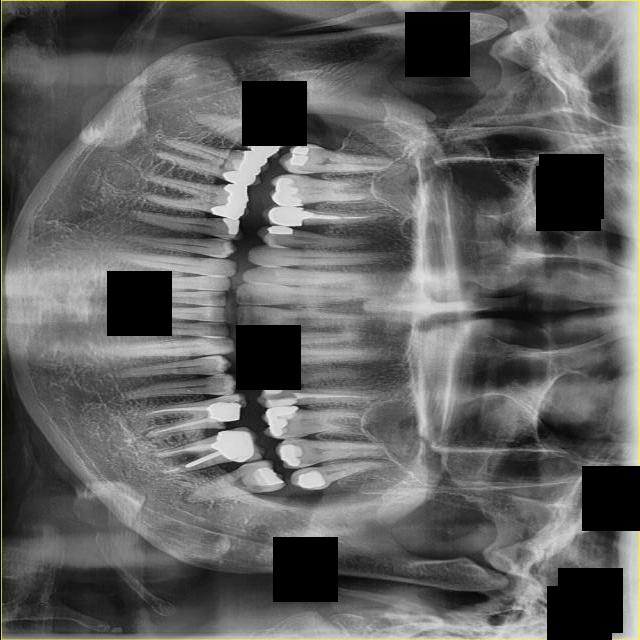71: (183, 450, 221, 470), (310, 213, 341, 221)
74: (153, 415, 218, 434), (291, 392, 372, 404), (158, 443, 214, 456), (146, 405, 208, 416), (162, 467, 179, 474), (340, 217, 371, 219)
NucleOSS Implant: (220, 142, 272, 195), (210, 179, 251, 220), (247, 130, 292, 164), (265, 404, 301, 437), (271, 177, 303, 206), (251, 465, 283, 488), (208, 402, 241, 423), (295, 469, 325, 491), (277, 444, 303, 467), (285, 209, 314, 221), (220, 217, 239, 235), (267, 224, 293, 234), (289, 154, 310, 166), (290, 145, 310, 154)
Sterngold Implant: (231, 396, 247, 407), (216, 422, 225, 428)
Straumann Implant: (253, 369, 285, 388), (264, 396, 297, 408), (263, 385, 284, 395)
Zimmer Implant: (209, 423, 267, 468), (261, 204, 303, 227)
